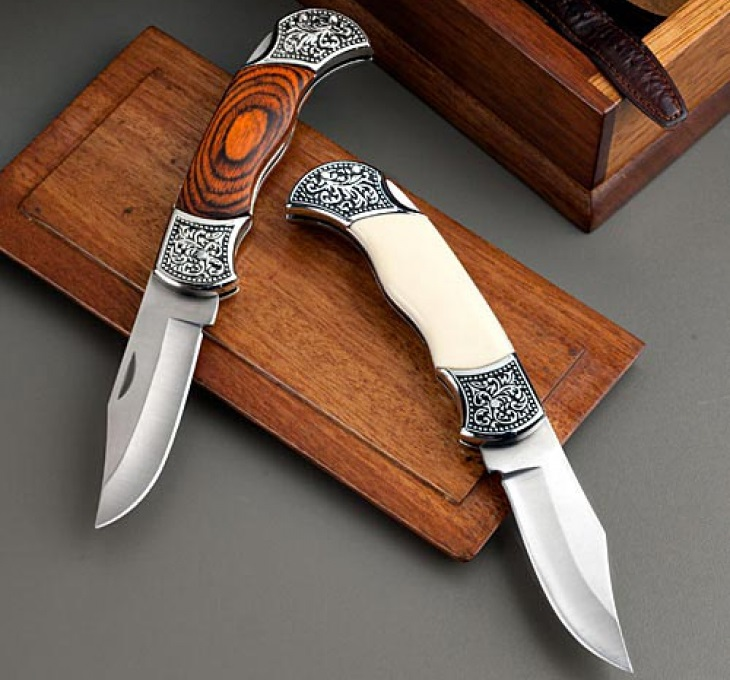knife: (436, 365, 645, 677), (87, 181, 257, 542)
